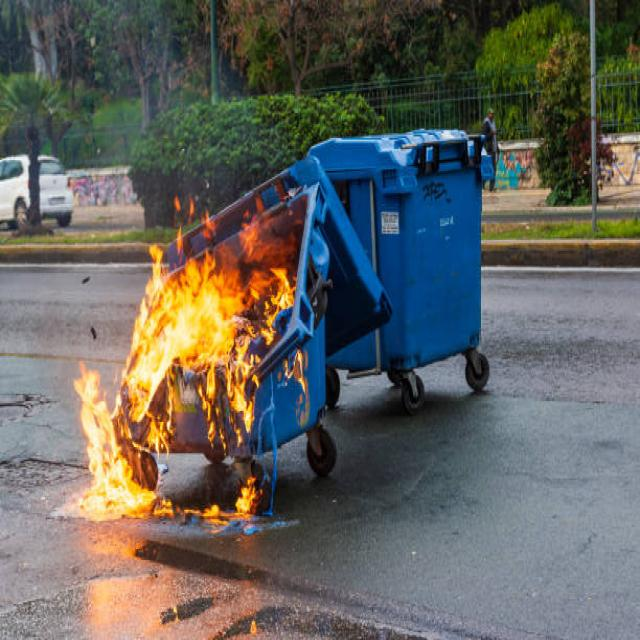fire: (223, 332, 261, 449), (180, 282, 224, 375), (211, 242, 242, 363), (131, 296, 180, 365), (242, 267, 298, 326), (79, 481, 142, 521), (165, 323, 208, 375), (131, 412, 176, 456), (127, 351, 165, 402), (121, 368, 150, 424), (235, 477, 263, 529), (91, 457, 133, 491), (237, 223, 270, 264), (86, 438, 122, 475), (264, 230, 296, 267)
